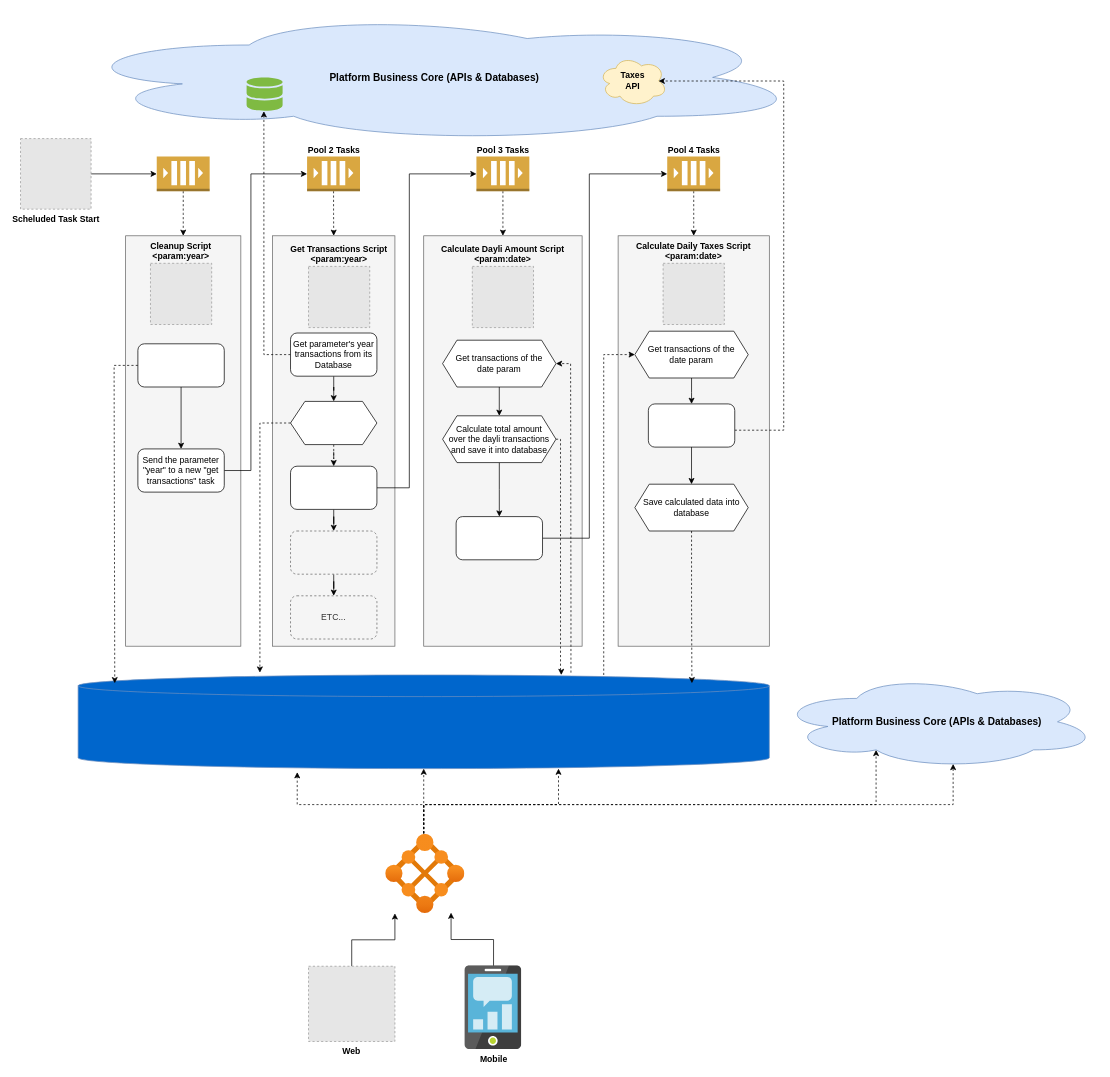
This 1110x1077 diagram has some shape labels left out. Grey dashed boxes stand in for pictures. Here are the shapes that lost their labels. From the top down, the box of each, then its label:
(246, 77, 282, 111): Transactions MongoDB <read db>
(156, 156, 210, 191): Pool 1 Tasks
(137, 343, 224, 387): Cleanup, if exists, the current calculated data on the parameterized "year"
(290, 401, 377, 445): Save Transactions Ordered by date
(648, 403, 735, 447): Calculate total taxes over the dayli transactions calling taxes api
(290, 465, 377, 509): Send each saved date to new calculate daily amount task
(290, 530, 377, 574): Send each saved month to new "calculate monthly amount" task
(455, 516, 543, 560): Send date to new calculate daily taxes task
(77, 674, 769, 769): Database
(385, 834, 464, 913): DATA MESH, CATALOG & DELIVERY
